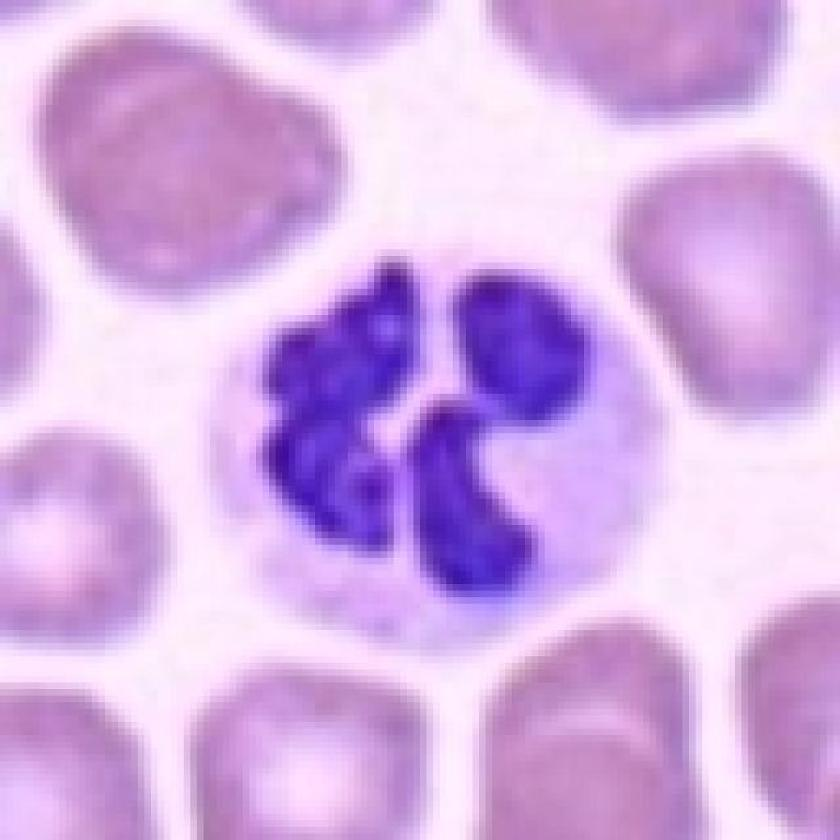neutrophil: (139, 180, 698, 693)
